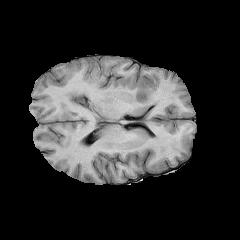glioma: (59, 76, 157, 118)
